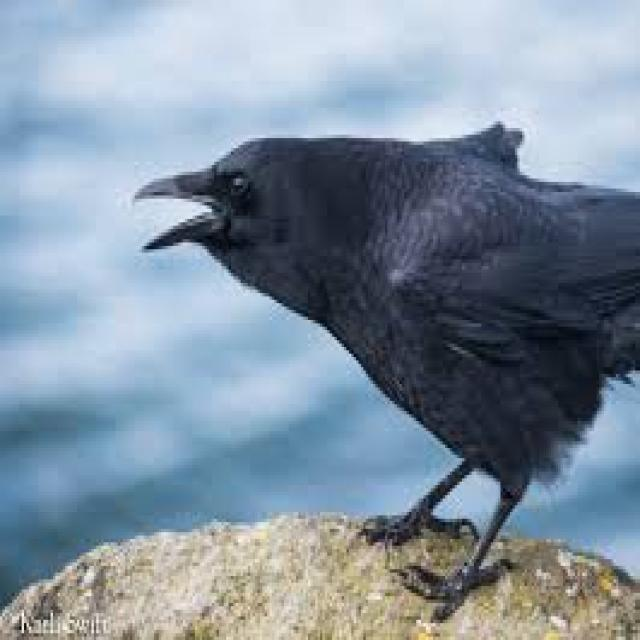crow: (110, 149, 404, 358)
